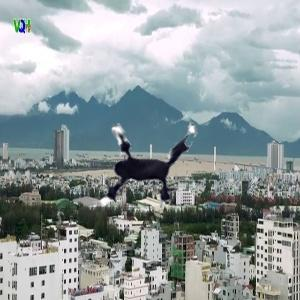drone: (69, 87, 214, 232)
